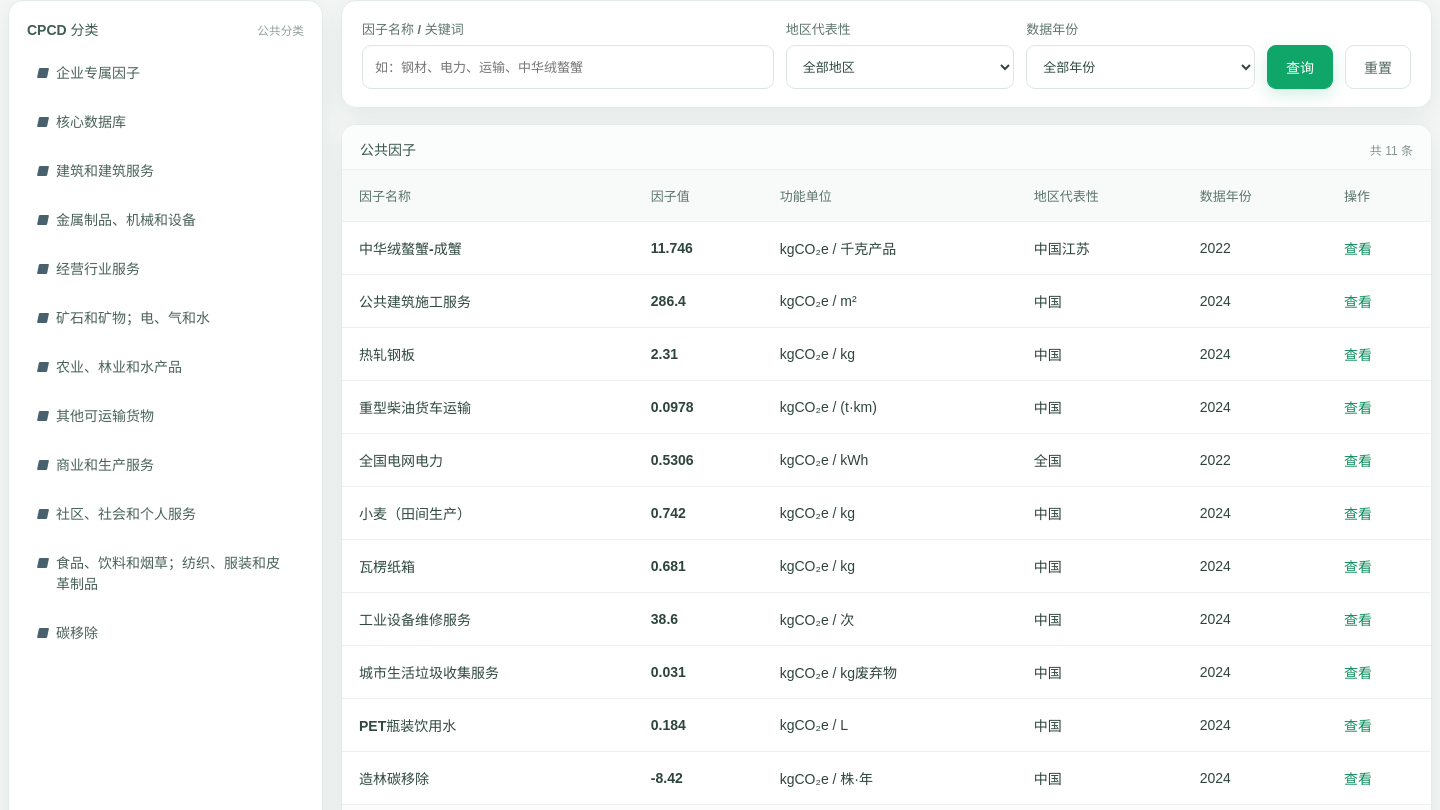
Test: 产品碳足迹运输活动 › 按目标详情字段展示公共碳足迹因子
What coordinates should you click on to do the following:
click the button "查看" in the row of "中华绒螯蟹-成蟹"
I would click on:
 (1358, 248)
Its box is [1344,238,1372,258].
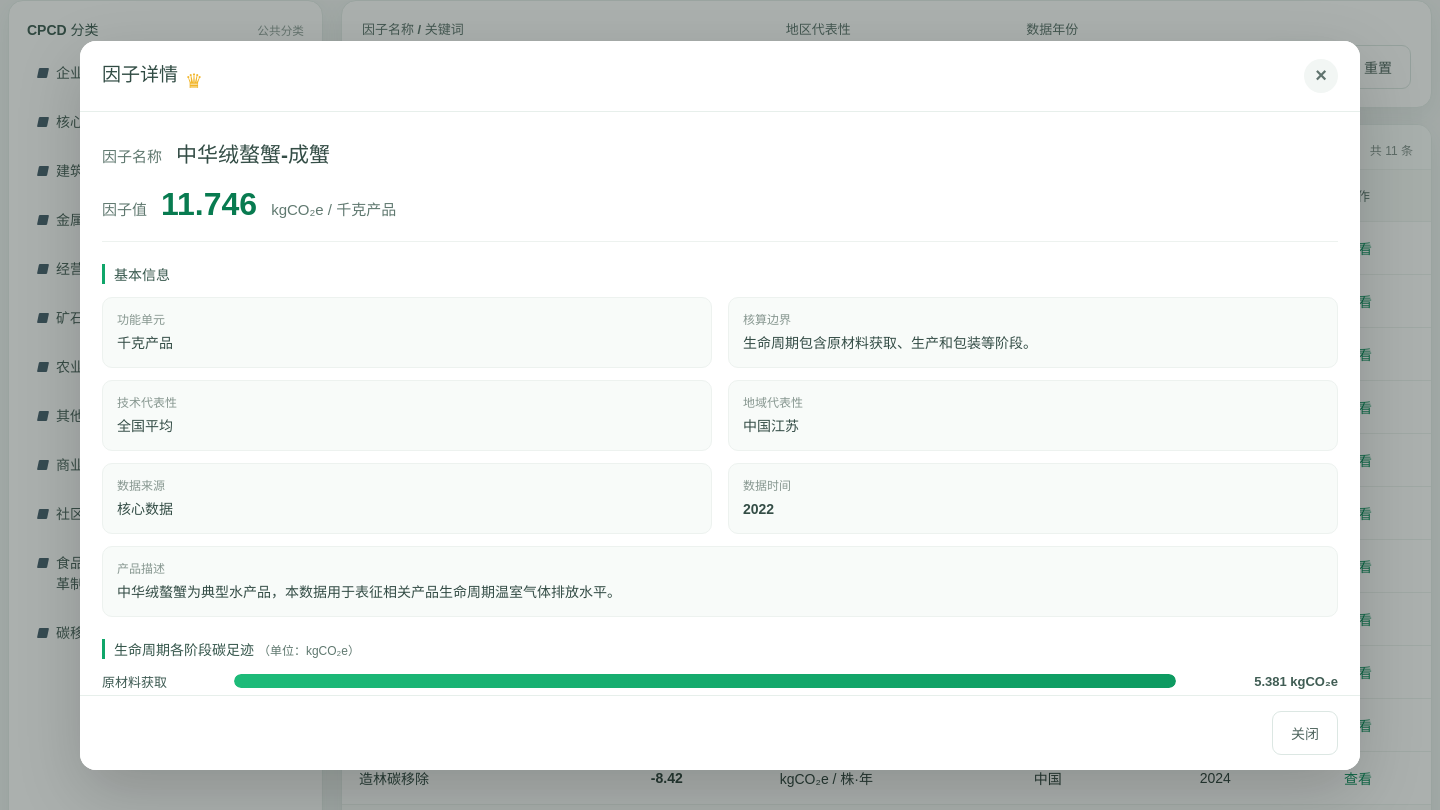
Result: the dialog shows "功能单元" at [117,312,165,326]
Result: the dialog shows "核算边界" at [743,312,791,326]
Result: the dialog shows "技术代表性" at [117,396,177,410]
